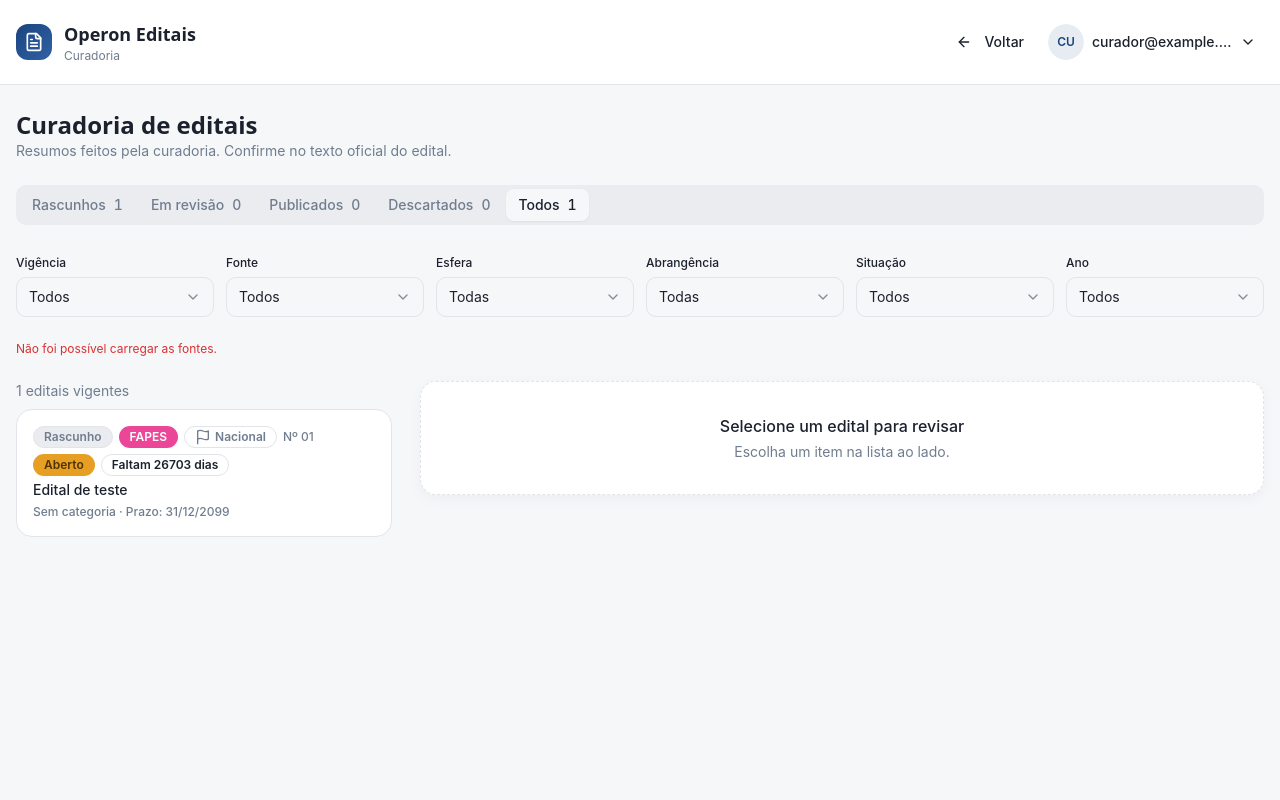
Test: Publicação visível na curadoria › inicia em Todos e mantém o edital selecionado e visível após publicar
Click the button that starts with "Rascunho": click(204, 473) [16,409,392,537]
(page scrolled)
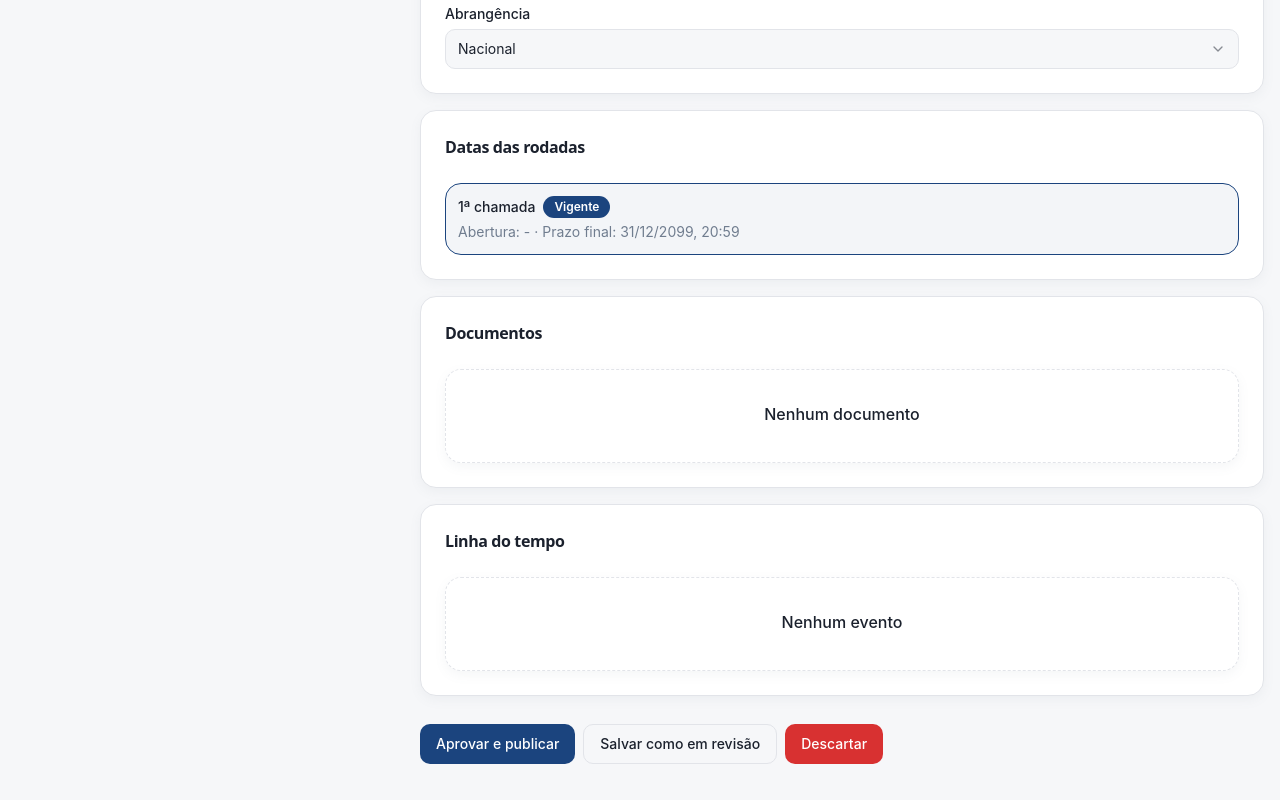
Check: the button "Aprovar e publicar" is enabled
Click the button "Aprovar e publicar": click(498, 744) [420,724,575,764]
(page scrolled)
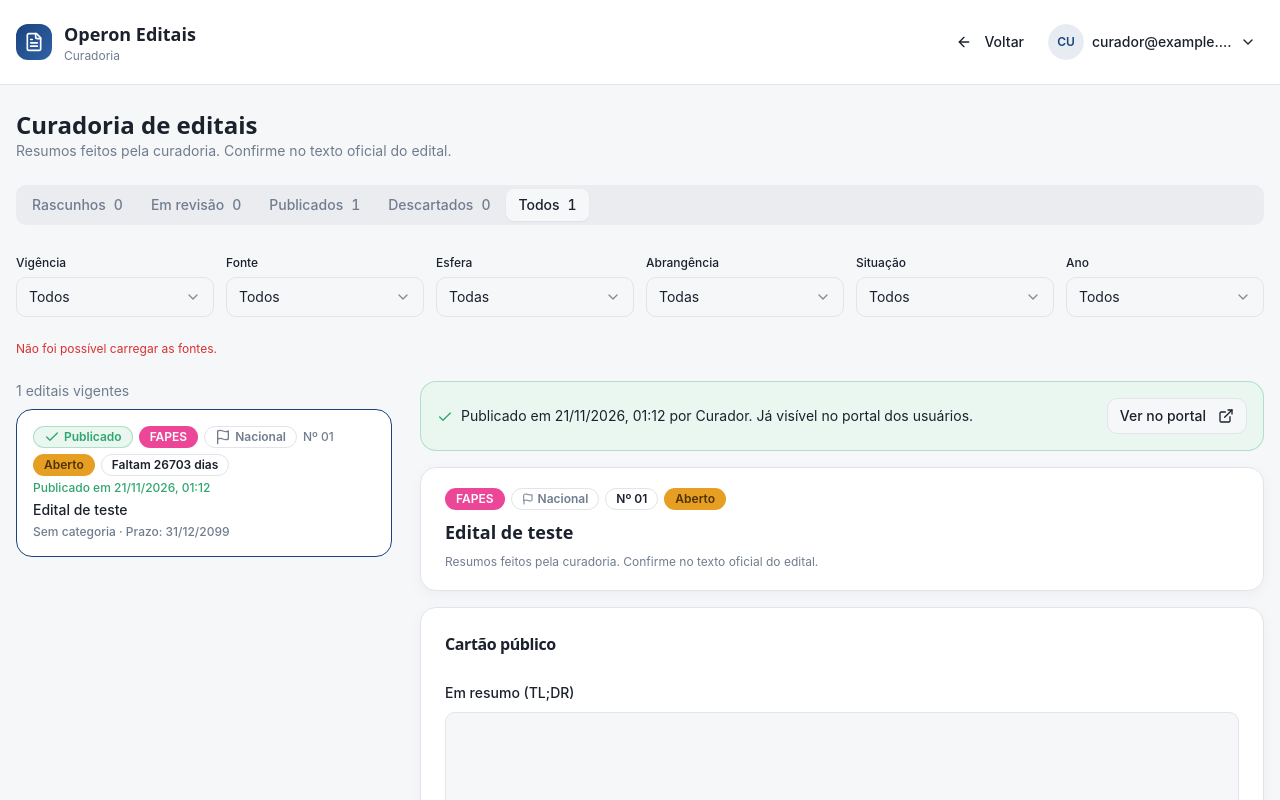
Check: the tab "Todos 1" is shown, box [506,189,589,221]
Check: the link to "/editais/ed1" is shown, box [1107,398,1247,434]
Check: the tab "Publicados 1" is shown, box [257,189,372,221]
